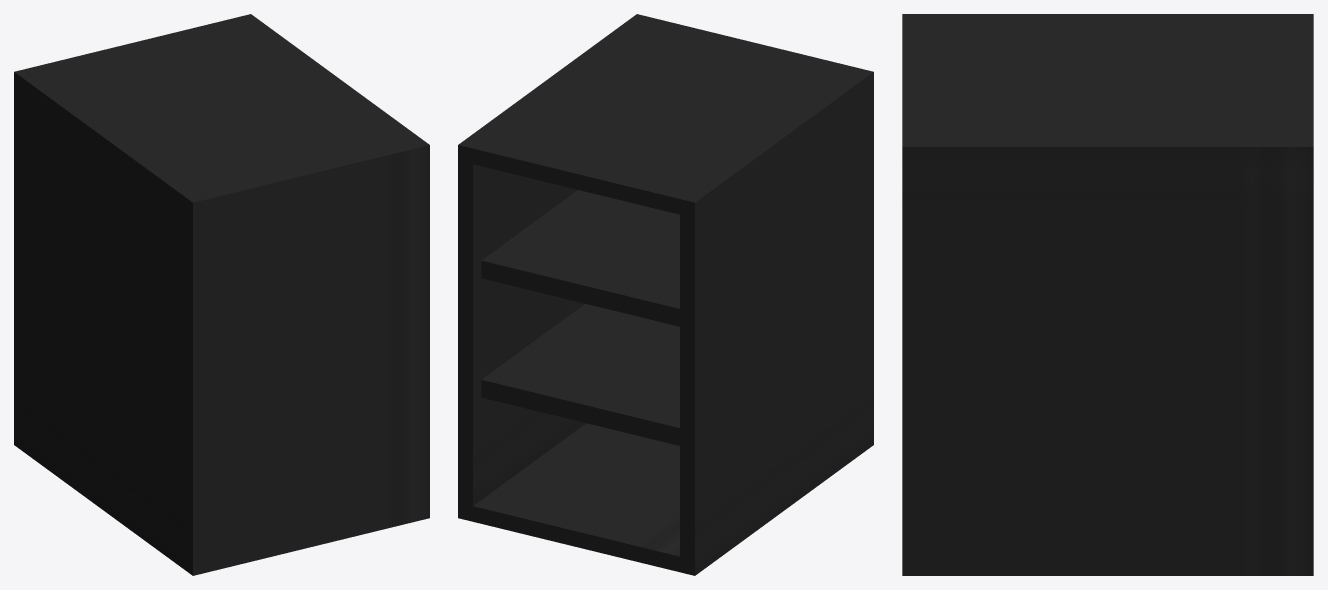
The model's file is CabinetD07.glb.
The picture shows the model from 3 angles, left to right: view 1: azimuth 30°, elevation 25°; view 2: azimuth 150°, elevation 25°; view 3: azimuth 270°, elevation 25°; orthographic projection. The views are drawn at different scales.
Visible parts, largest first — view 1: CabinetD07_model; view 2: CabinetD07_model; view 3: CabinetD07_model.
Part boxes in pixels (bbox=[...]): CabinetD07_model: bbox=[14, 14, 429, 575]; CabinetD07_model: bbox=[458, 14, 873, 575]; CabinetD07_model: bbox=[902, 14, 1313, 575].
Bounding box in the file's own units: 0.9201 × 1.39 × 1.2.
Materials: 1 (1 with a texture image).
